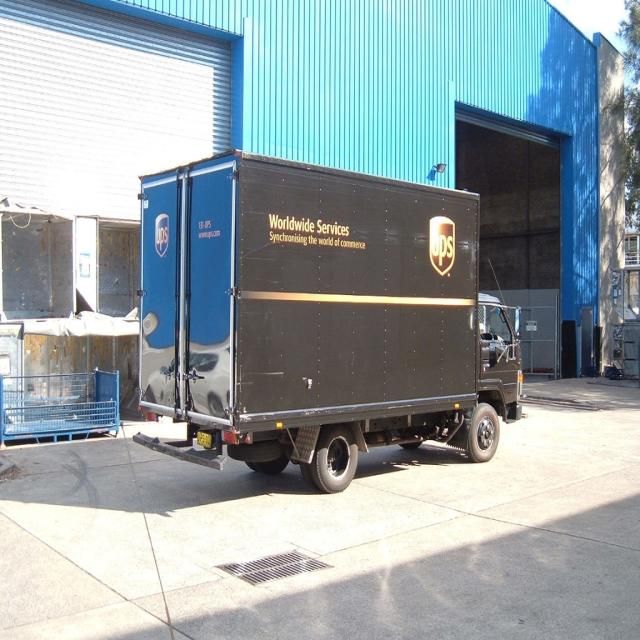ups: (430, 216, 456, 277), (156, 213, 169, 257)
